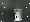person: (15, 7, 23, 21)
